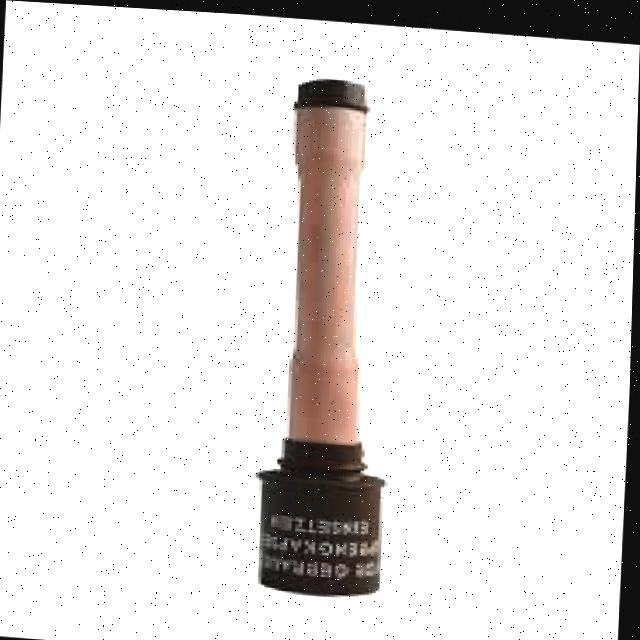grenade: (244, 68, 437, 627)
